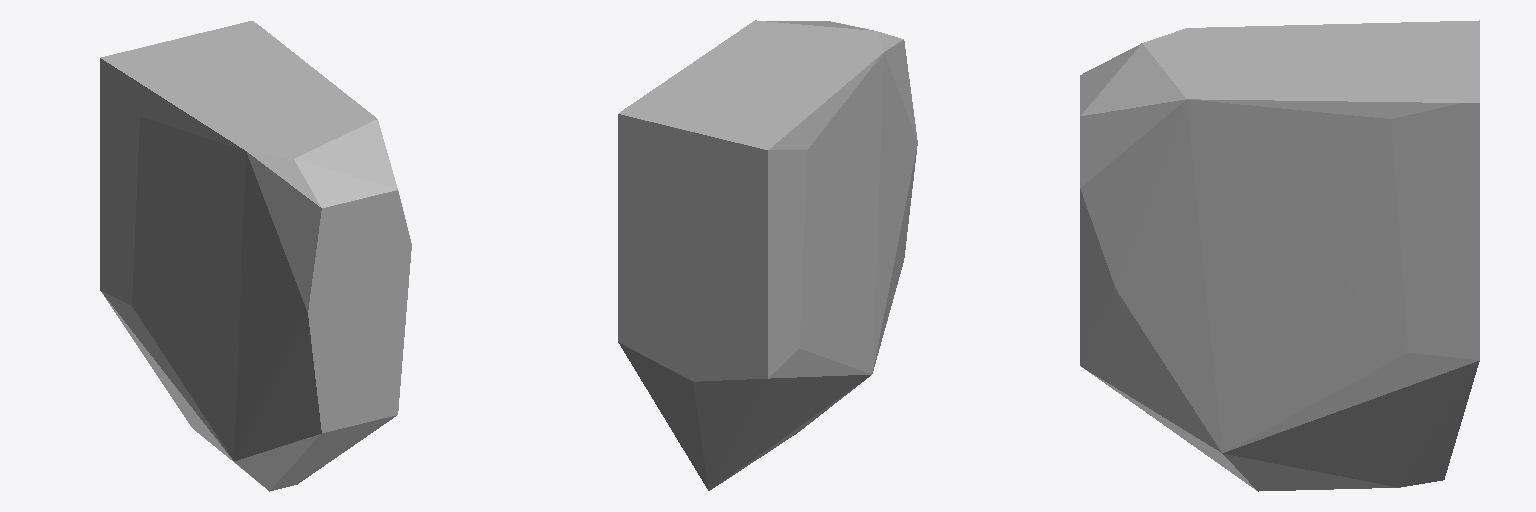
URDF robot description (root):
<?xml version='1.0' encoding='utf-8'?>
<robot name="root">
  <link name="link_001">
    <visual>
      <origin xyz="0 0 0" rpy="0 0 0" />
      <geometry>
        <mesh filename="6e7e67644ce3d7151b13d62ef87a11c1ce9697ccaeeca78dbf0cd5ae5eb25195_scale_1114.stl" scale="1.0000E+00 1.0000E+00 1.0000E+00" />
      </geometry>
      <material name="">
        <color rgba="7.50E-01 7.50E-01 7.50E-01 1" />
      </material>
    </visual>
    <collision>
      <origin xyz="0 0 0" rpy="0 0 0" />
      <geometry>
        <mesh filename="6e7e67644ce3d7151b13d62ef87a11c1ce9697ccaeeca78dbf0cd5ae5eb25195_scale_1114.stl" scale="1.0000E+00 1.0000E+00 1.0000E+00" />
      </geometry>
    </collision>
  </link>
</robot>

--- Render facts (derived) ---
3 views of the same robot in one strip: view 1: azimuth 30°, elevation 25°; view 2: azimuth 150°, elevation 25°; view 3: azimuth 270°, elevation 25° (orthographic).
Model root with 1 links and 0 joints (none), rooted at link_001, posed every joint at zero.
Links seen in each view (by area): view 1: link_001; view 2: link_001; view 3: link_001.
Boxes of the visible links, x1,y1,x2,y2 form: link_001: (100, 21, 411, 491); link_001: (618, 20, 917, 490); link_001: (1080, 20, 1479, 491).
Size in the robot's own frame: 0.0508 by 0.1039 by 0.12 metres.
1 mesh visuals loaded from 1 distinct referenced files (1 binary STL).
